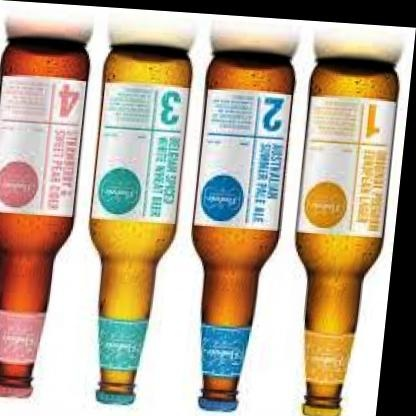trash: (0, 1, 414, 415), (296, 58, 406, 415), (191, 50, 295, 413), (88, 43, 192, 406), (90, 45, 190, 404), (0, 33, 88, 396)
